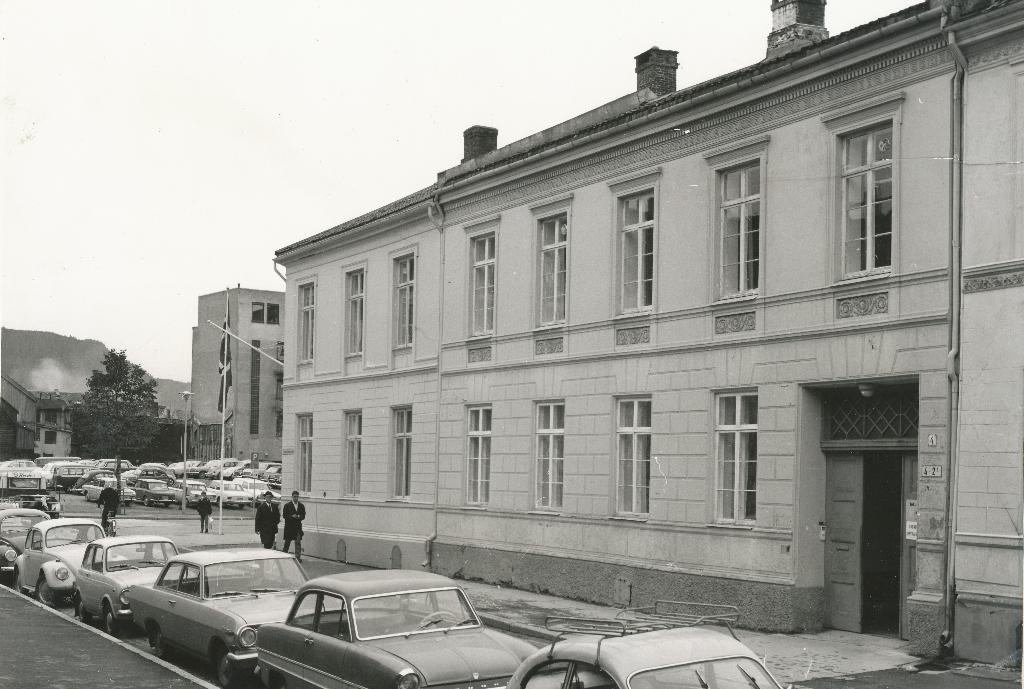cars: (255, 572, 540, 688), (121, 544, 346, 688), (506, 625, 791, 688), (0, 456, 284, 508), (71, 538, 176, 629), (16, 519, 113, 609), (0, 516, 54, 574)
